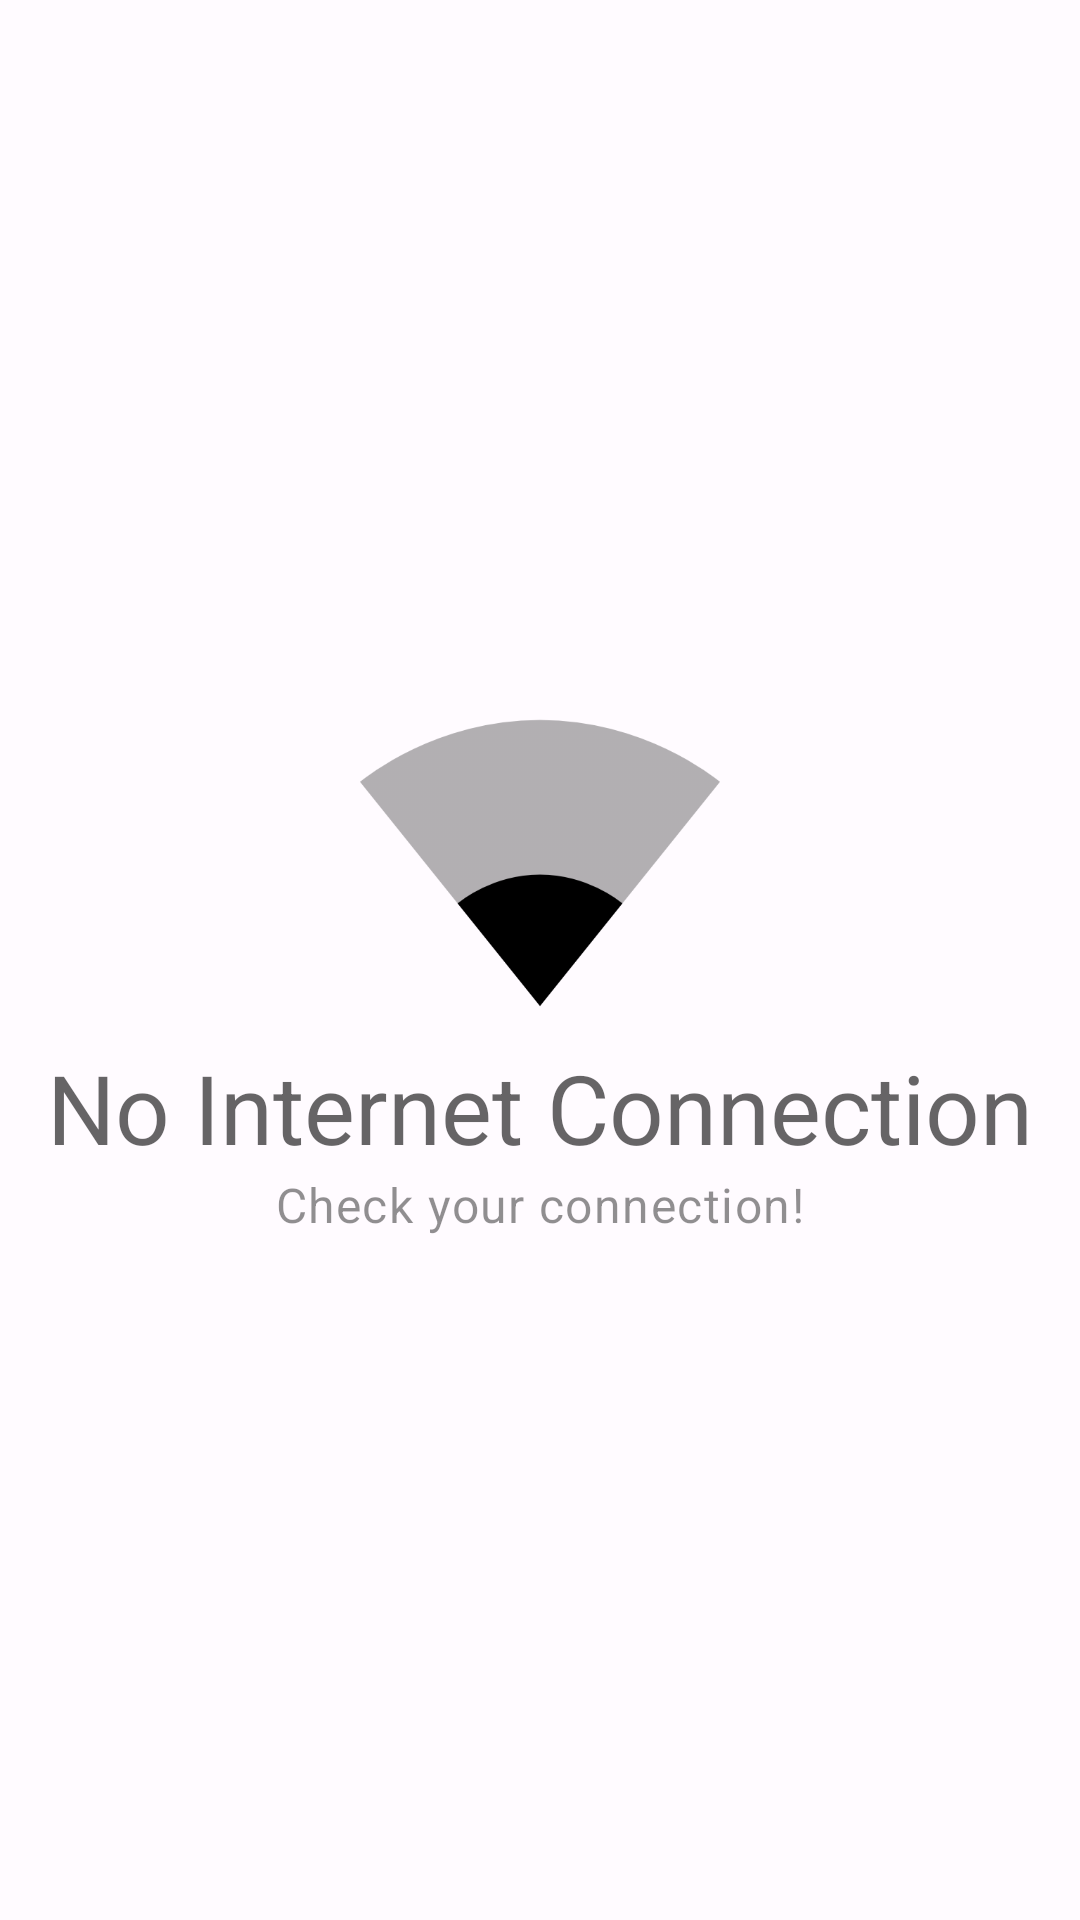

Named icons in this screenshot (1080w x 1920h) and their bounding boxes, (x1, y1, x2, y2):
Wifi-Connection Icon: (360, 720, 720, 1006)
